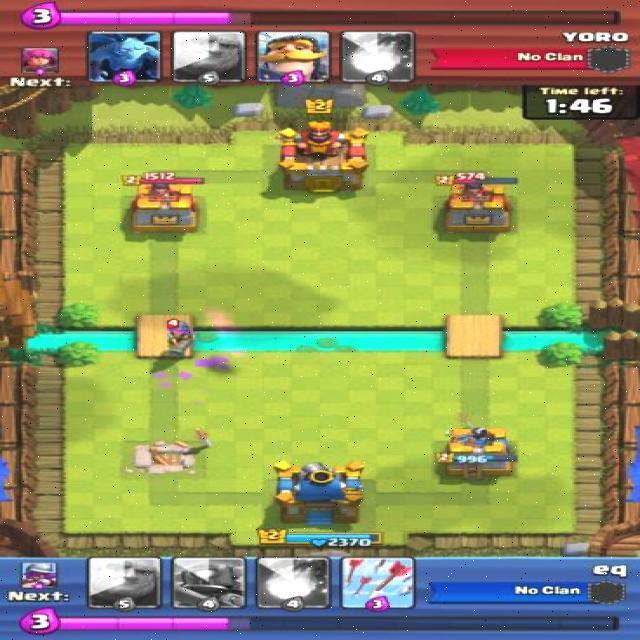EKingTower: (281, 125, 366, 188)
EMusk: (158, 317, 197, 358)
EnemyPrincessTower: (127, 176, 198, 234), (446, 177, 510, 234)
OwnKingTower: (275, 461, 365, 527)
OwnPrincessTower: (443, 429, 514, 481)
TowerDown: (121, 437, 207, 488)
